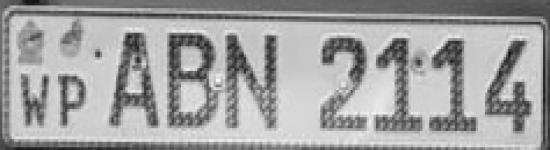1: (428, 28, 483, 140), (374, 28, 428, 136)
2: (314, 27, 372, 136)
4: (486, 30, 538, 139)
A: (106, 25, 165, 136)
B: (162, 25, 221, 132)
N: (219, 22, 286, 138)
P: (54, 68, 90, 133)
W: (17, 68, 54, 128)
